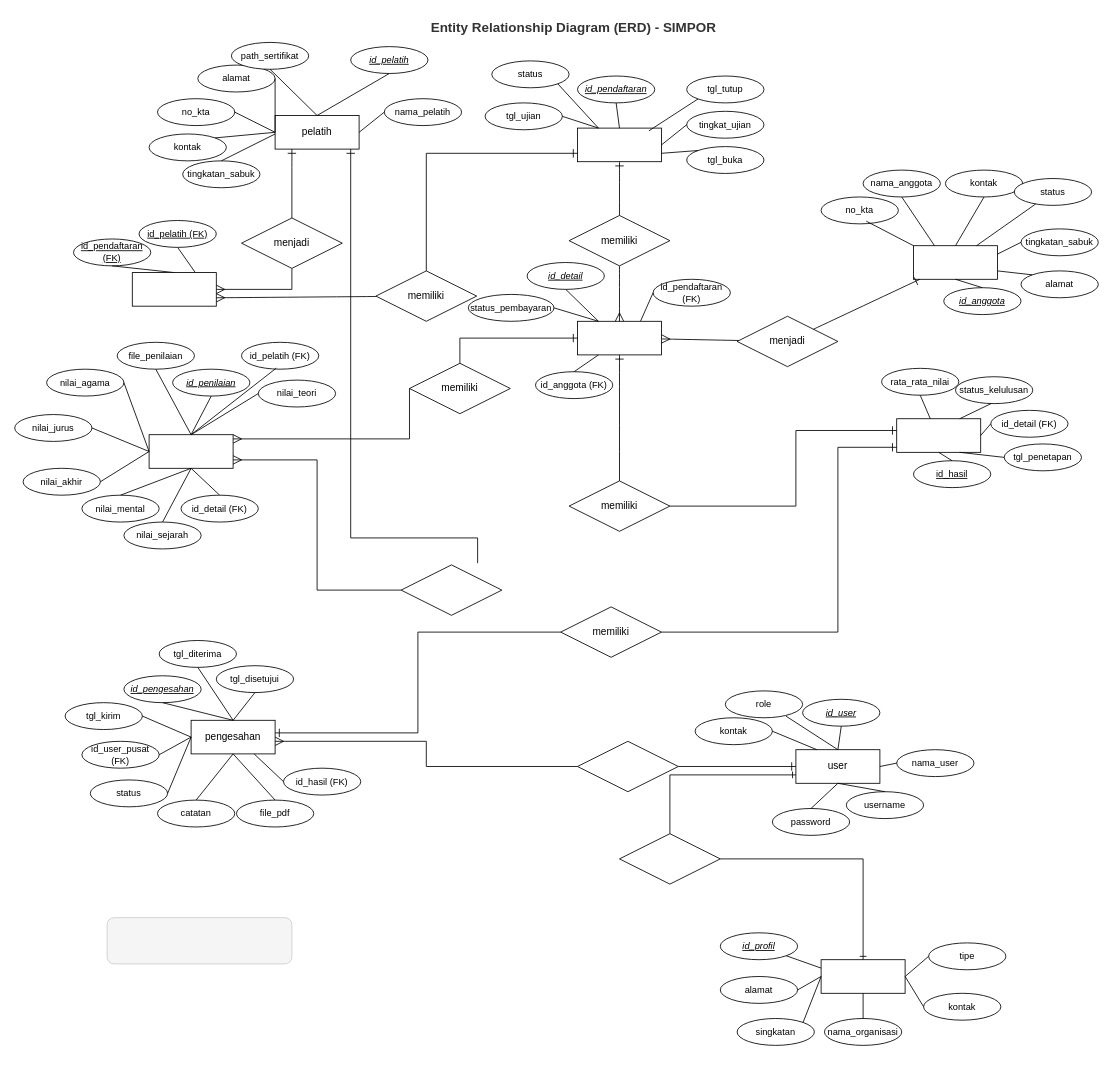
This 1113x1074 diagram has some shape labels left out. The shapes that lost their labels are listed below. From the top down, each one's box as (x1, y1, x2, y2) in pixels, then its label:
(577, 127, 662, 162): pendaftaran_ujian
(913, 245, 998, 279): anggota
(131, 272, 216, 306): penguji_ujian
(577, 320, 662, 355): detail_pendaftaran
(148, 434, 233, 468): penilaian
(896, 418, 981, 452): hasil_ujian
(400, 564, 502, 615): dilakukan
(577, 740, 678, 792): melihat
(619, 833, 720, 884): menambahkan
(106, 917, 292, 964): Keterangan: Italic = Primary Key (FK) = Foreign Key
(820, 959, 905, 993): profil
